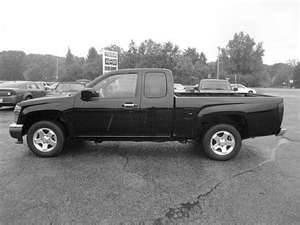car: (9, 69, 287, 162)
